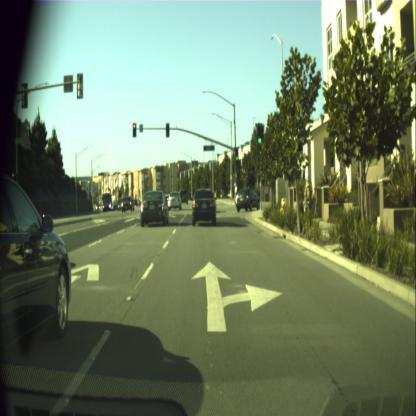Green: (258, 124, 262, 144), (234, 148, 238, 168)
RedLeft: (133, 122, 136, 136)
off: (165, 123, 169, 136)
